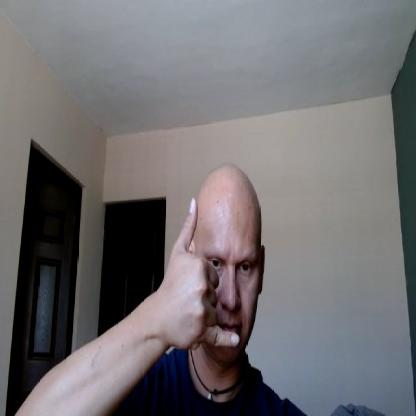Y: (163, 196, 242, 355)
